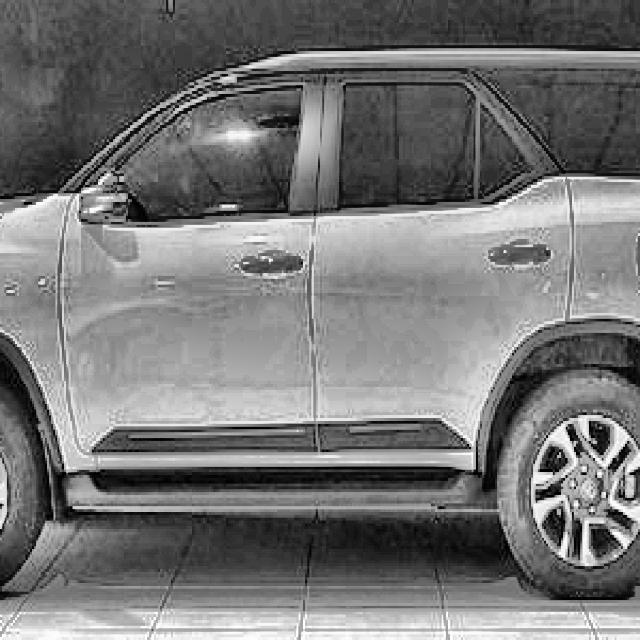light_vehicle: (0, 46, 640, 608)
